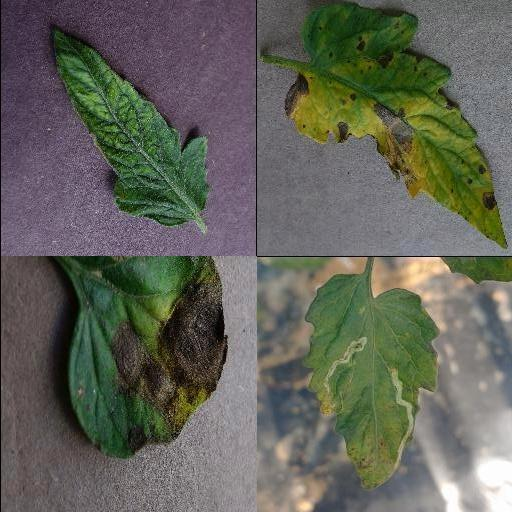Early Blight: (283, 2, 507, 250), (67, 256, 225, 458)
Leaf Miner: (300, 271, 442, 489)
Mosaic Virus: (50, 24, 210, 226)
